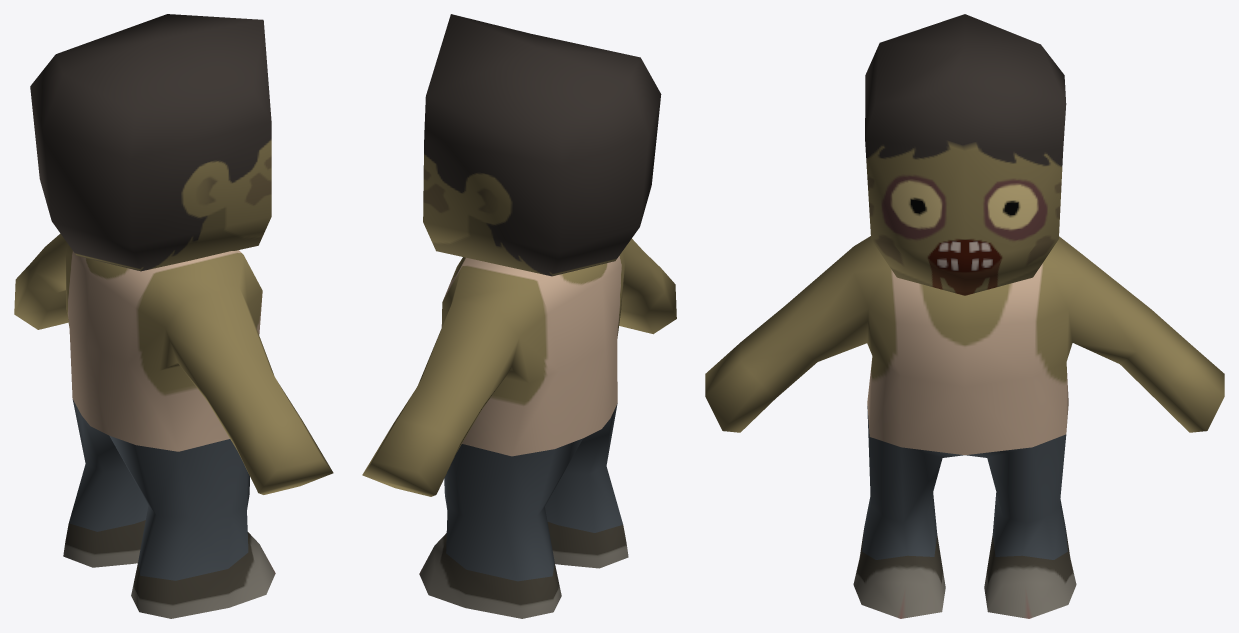
The model's file is Zombie.fbx.
The picture shows the model from 3 angles, left to right: view 1: azimuth 30°, elevation 25°; view 2: azimuth 150°, elevation 25°; view 3: azimuth 270°, elevation 25°; orthographic projection.
Visible parts, largest first — view 1: Body_01_tanktop; view 2: Body_01_tanktop; view 3: Body_01_tanktop.
Boxes of the visible parts, left/top/right/bottom form: Body_01_tanktop: left=14, top=14, right=333, bottom=618; Body_01_tanktop: left=362, top=14, right=676, bottom=618; Body_01_tanktop: left=705, top=14, right=1224, bottom=618.
Size of the model in its own units: 13.17 by 31.31 by 27.7.
Materials: 1 (1 with a texture image).
